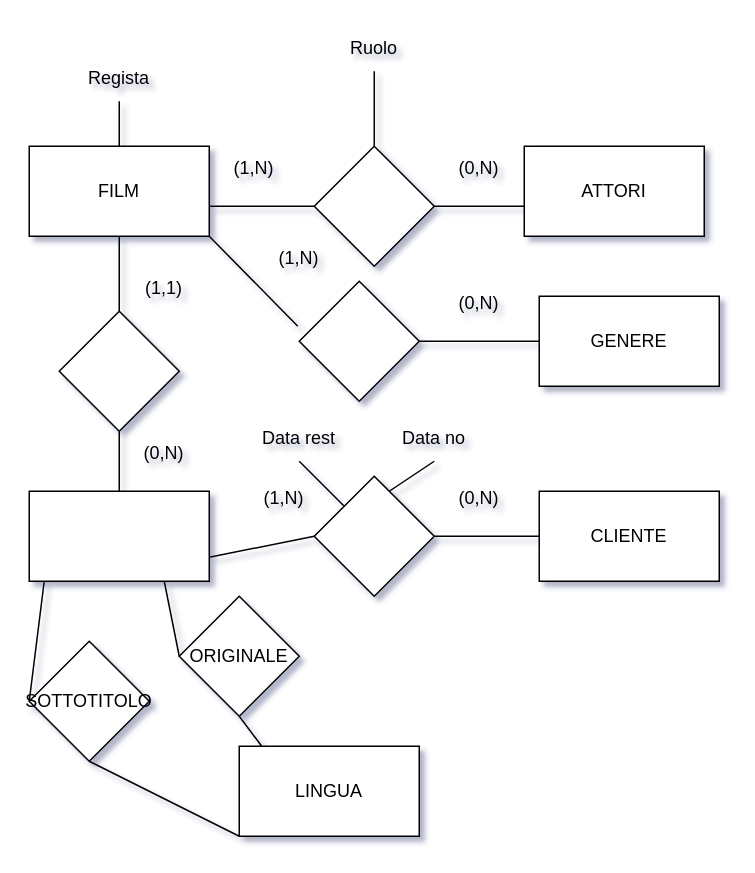
Some shapes in this 755 by 873 pixel diagram are drawn without their labels. The shapes that lost their labels are listed below. From the top down, each one's centre as x and y in pixels, then its label:
At pixel 373 205: "RECITA".
At pixel 118 370: "CONTIENE".
At pixel 118 535: "DVD".
At pixel 373 535: "NOLEGGIO".
